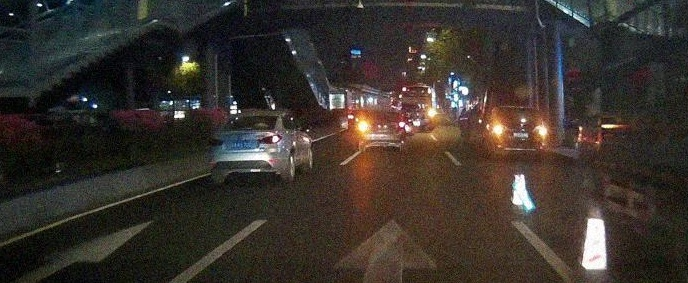L_light: (210, 139, 224, 147), (492, 124, 507, 131), (360, 124, 370, 129)
R_light: (258, 135, 282, 144), (531, 126, 546, 134), (393, 122, 404, 127)
T_light: (517, 110, 527, 113), (251, 116, 260, 119), (378, 113, 387, 116)
night-left: (359, 112, 405, 154)
night-no: (209, 109, 287, 187), (491, 106, 547, 161)
